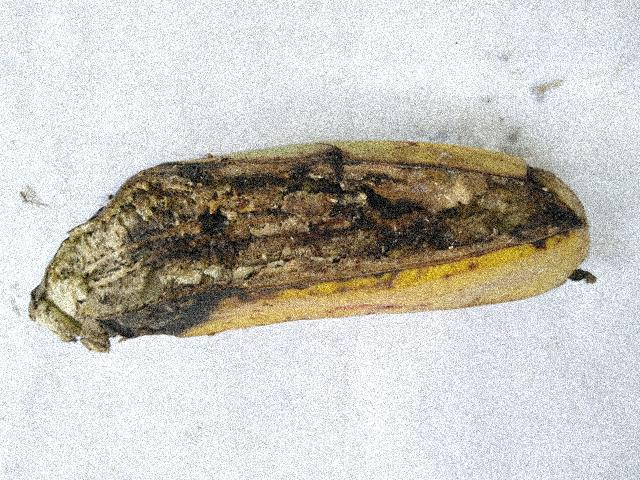rotten: (21, 122, 587, 360)
